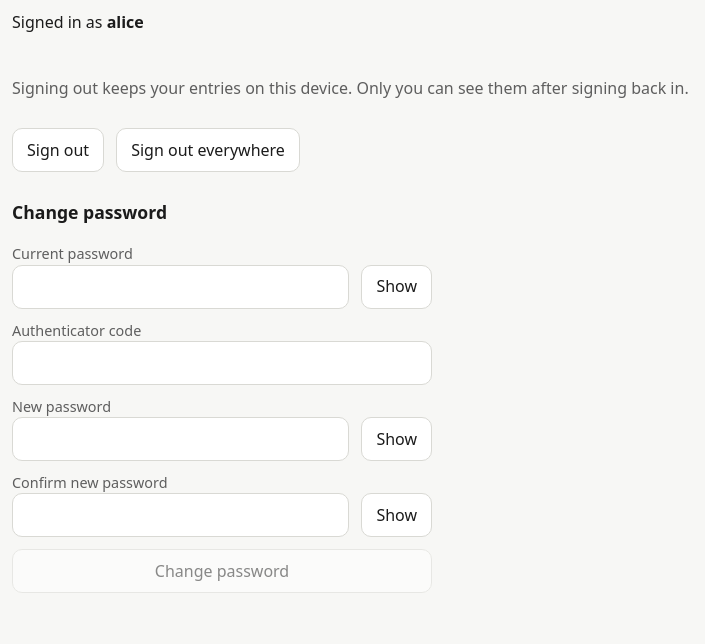
Scenario: AccountMenu › change password (ASVS 2.1.5, 2.1.6) › catches a mistyped confirmation before sending
In the password field labelled "Current password": [181, 287] box [12,265,349,309], type "the old passphrase"
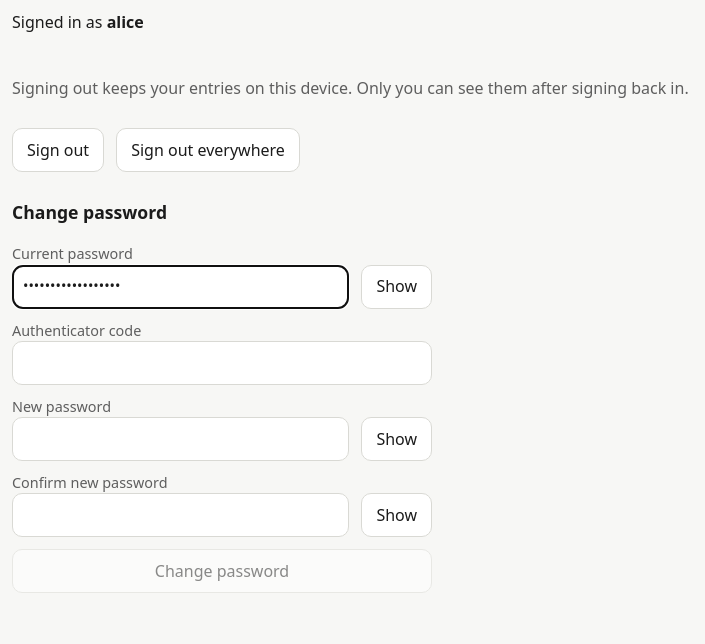
In the field labelled "Authenticator code": [222, 363] box [12,341,432,385], type "123456"
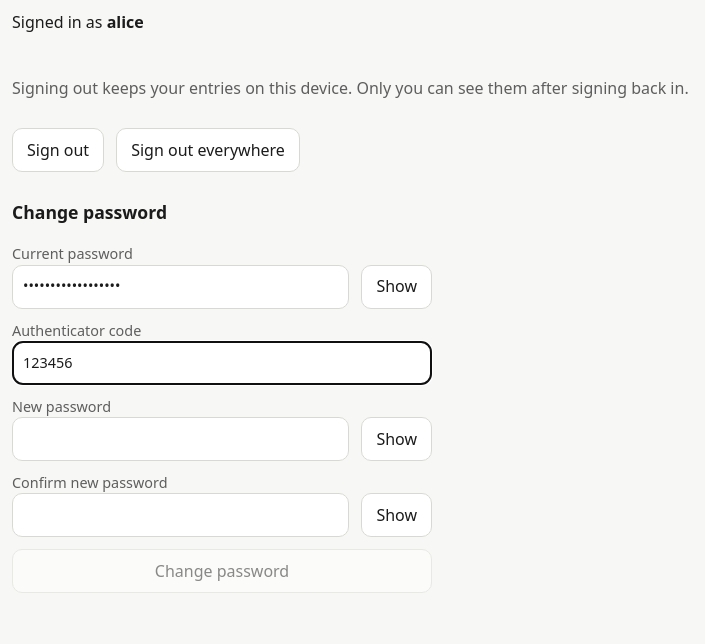
In the password field labelled "New password": [181, 439] box [12,417,349,461], type "a new and private passphrase"
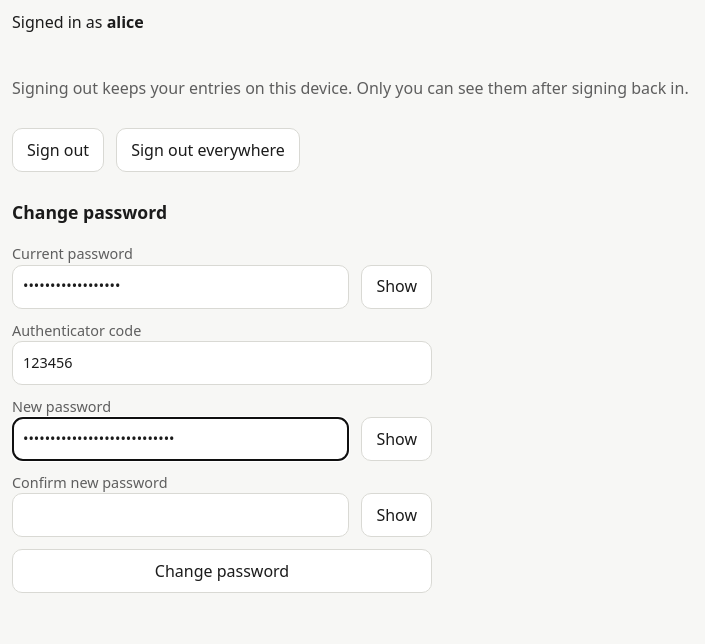
In the password field labelled "Confirm new password": [181, 515] box [12,493,349,537], type "something else entirely"
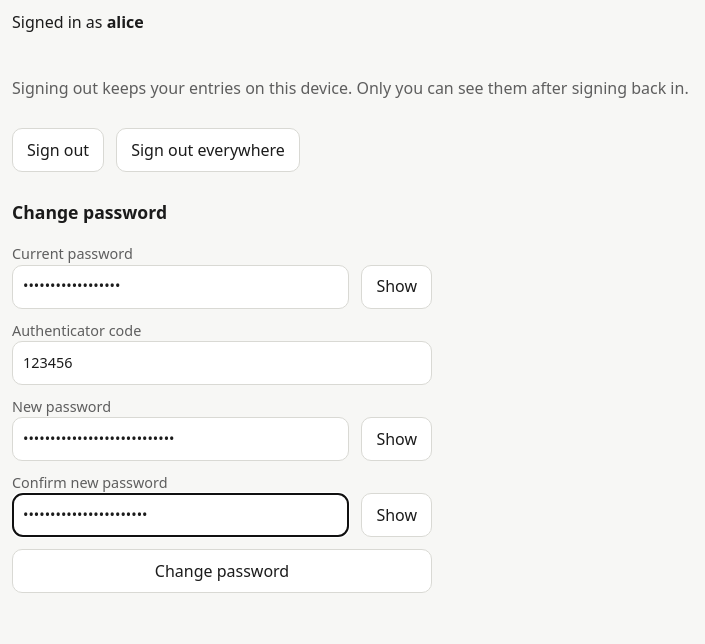
Click the button "Change password": [222, 571] box [12,549,432,593]
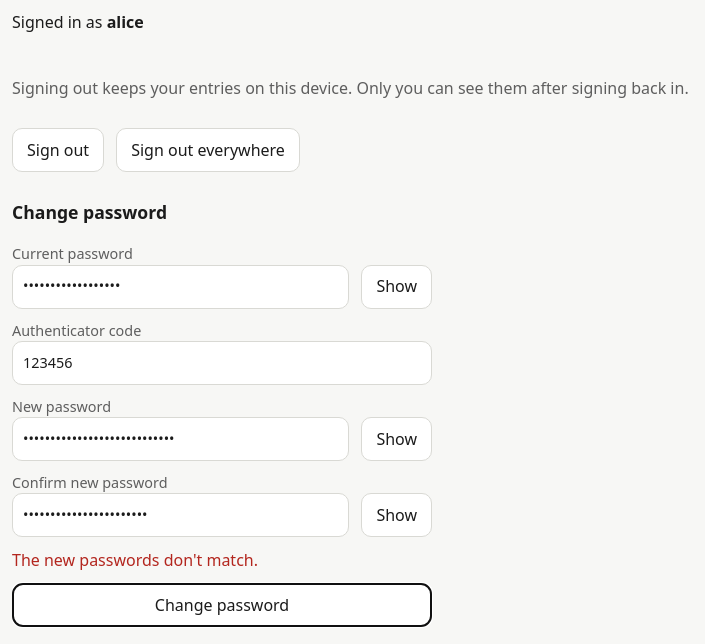
Expected: the message reads "The new passwords don't match.", [12,549,258,571]
